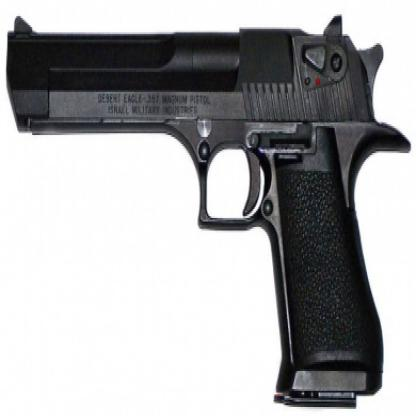Guns: (3, 7, 413, 414)
